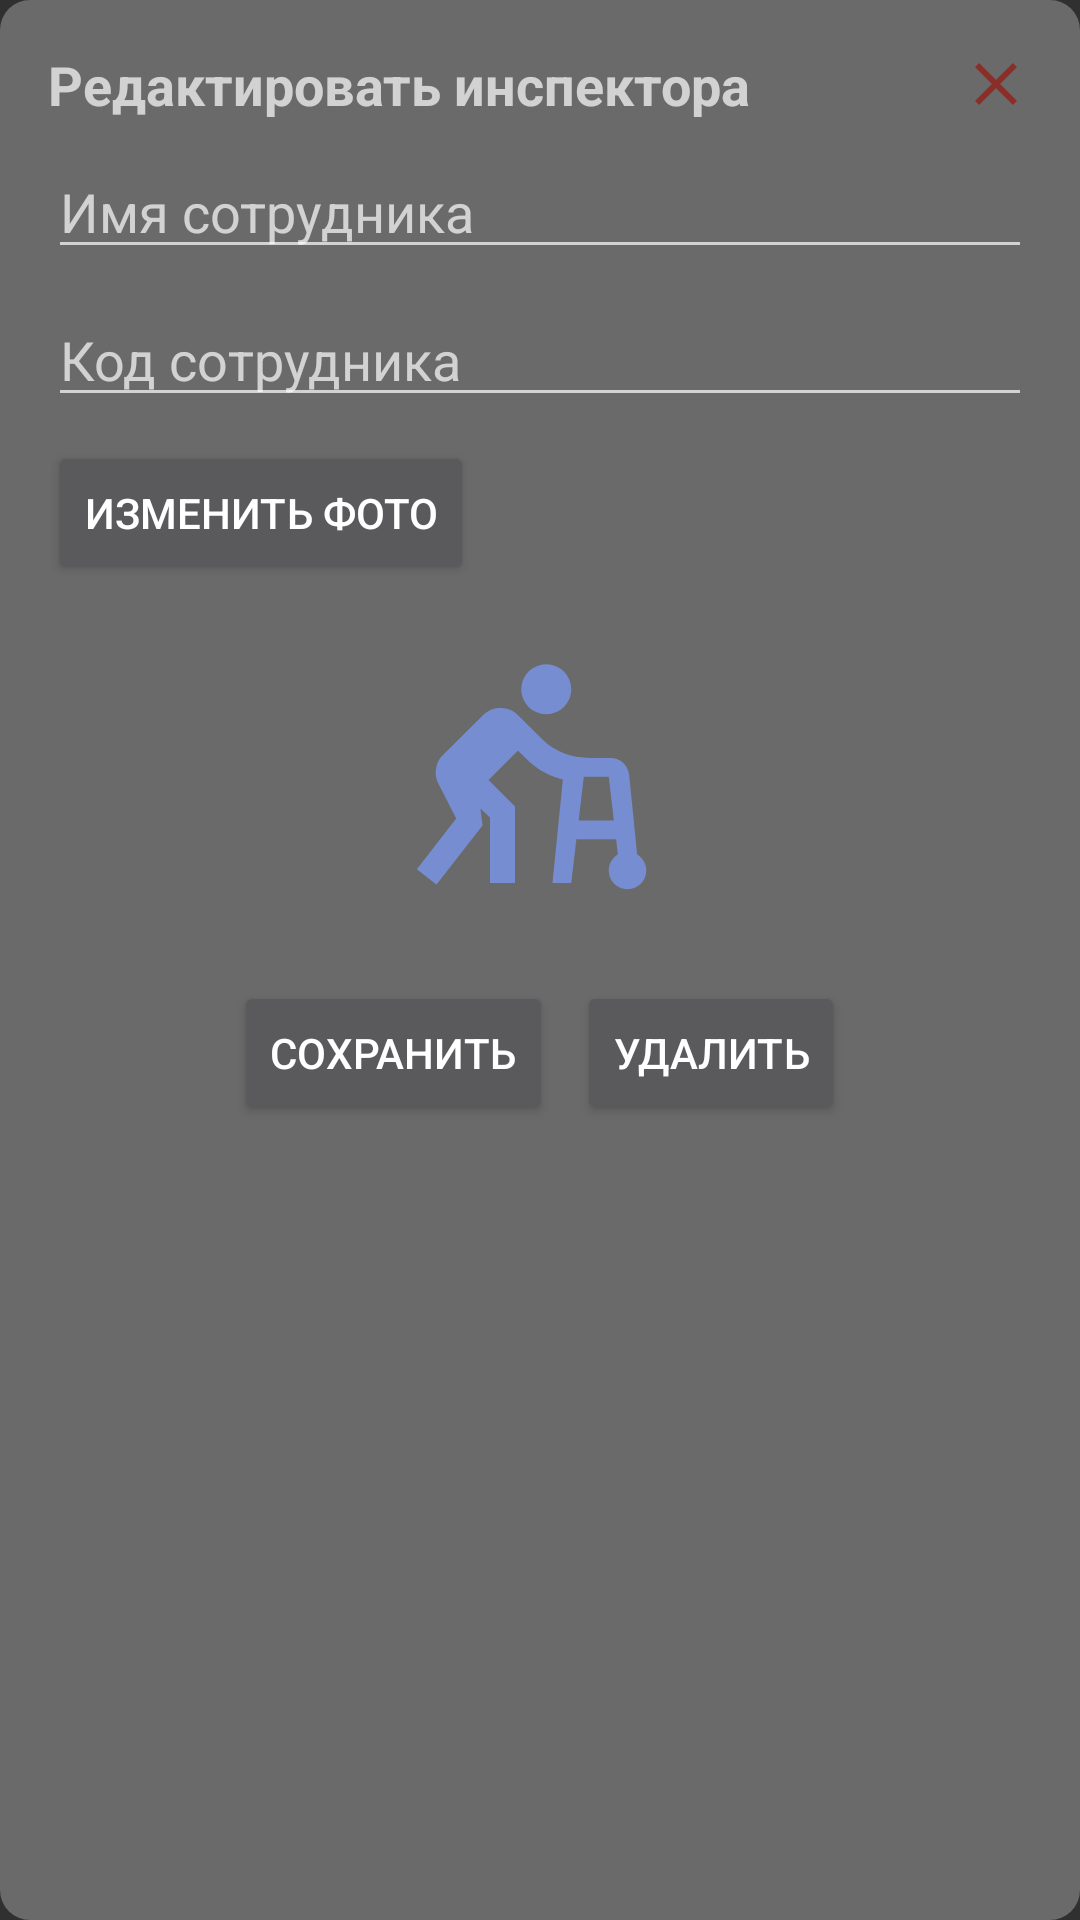

Named icons in this screenshot (1080 × 1920) and their centers, [x,y]:
close: [996,84]
